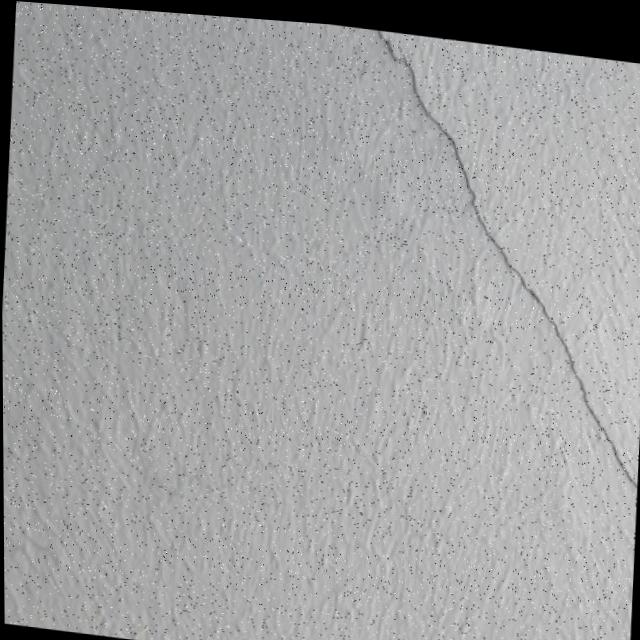Crack: (351, 22, 640, 499)
